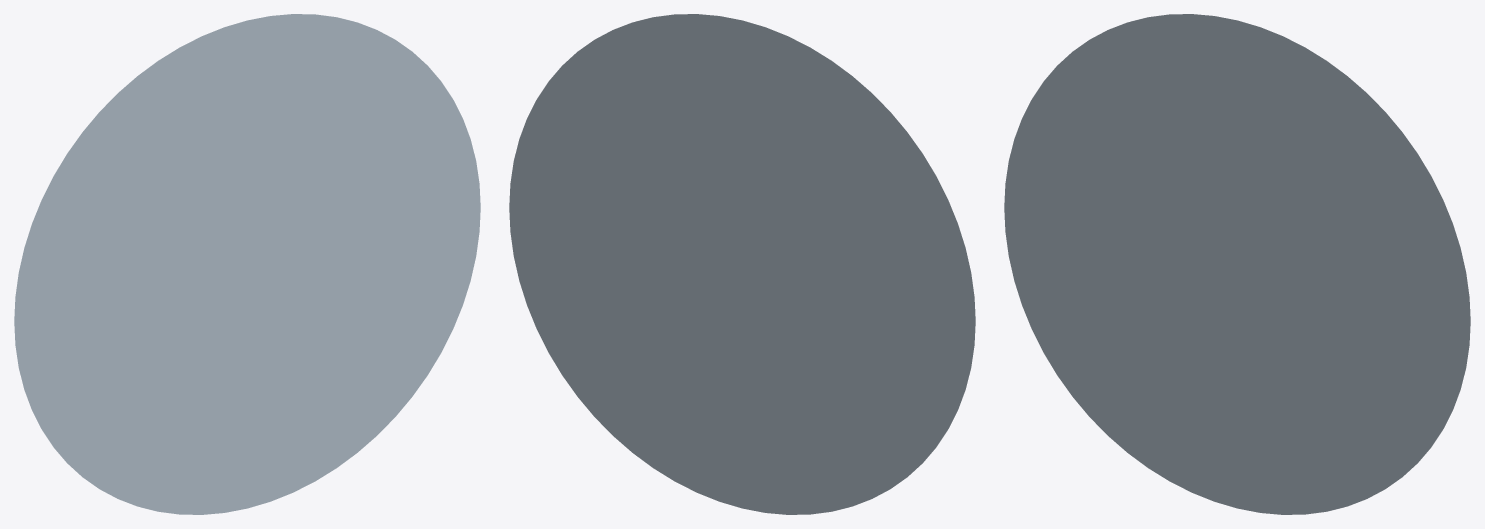
The model's file is 2067_IceBeams_Glow.fbx.
3 views of the same model, side by side, from view 1: azimuth 30°, elevation 25°; view 2: azimuth 150°, elevation 25°; view 3: azimuth 330°, elevation 25° (orthographic).
Visible parts, largest first — view 1: PART_SoftContactGlow; view 2: PART_SoftContactGlow; view 3: PART_SoftContactGlow.
Part boxes in pixels (bbox=[...]): PART_SoftContactGlow: bbox=[14, 14, 480, 514]; PART_SoftContactGlow: bbox=[509, 14, 975, 514]; PART_SoftContactGlow: bbox=[1004, 14, 1470, 514].
Bounding box in the file's own units: 200 × 200 × 3.26e-05.
